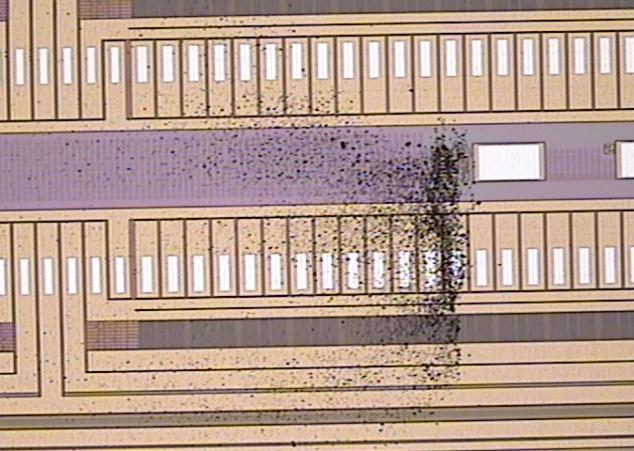PO CONTAMINATION: (28, 2, 482, 451)
